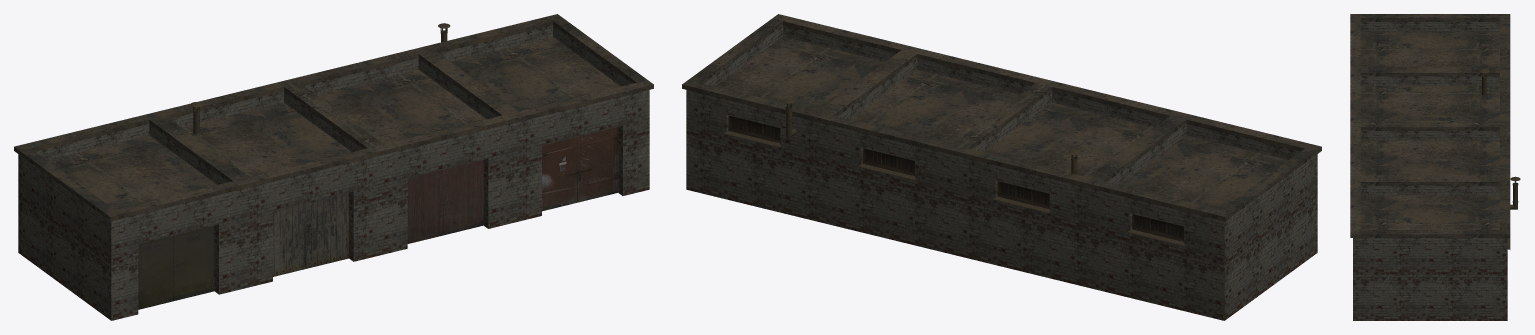
File: garages_block_hr_1.glb
3 views of the same model, side by side, from view 1: azimuth 30°, elevation 25°; view 2: azimuth 150°, elevation 25°; view 3: azimuth 270°, elevation 25° (orthographic). The views are drawn at different scales.
Visible parts, largest first — view 1: garages_block_hr_1; view 2: garages_block_hr_1; view 3: garages_block_hr_1.
Part boxes in pixels (<box>): garages_block_hr_1: <box>14,14,653,320</box>; garages_block_hr_1: <box>682,14,1321,320</box>; garages_block_hr_1: <box>1350,14,1520,320</box>.
Size of the model in its own units: 20.2 by 4.3 by 6.6.
Materials: 8 (8 with a texture image).
